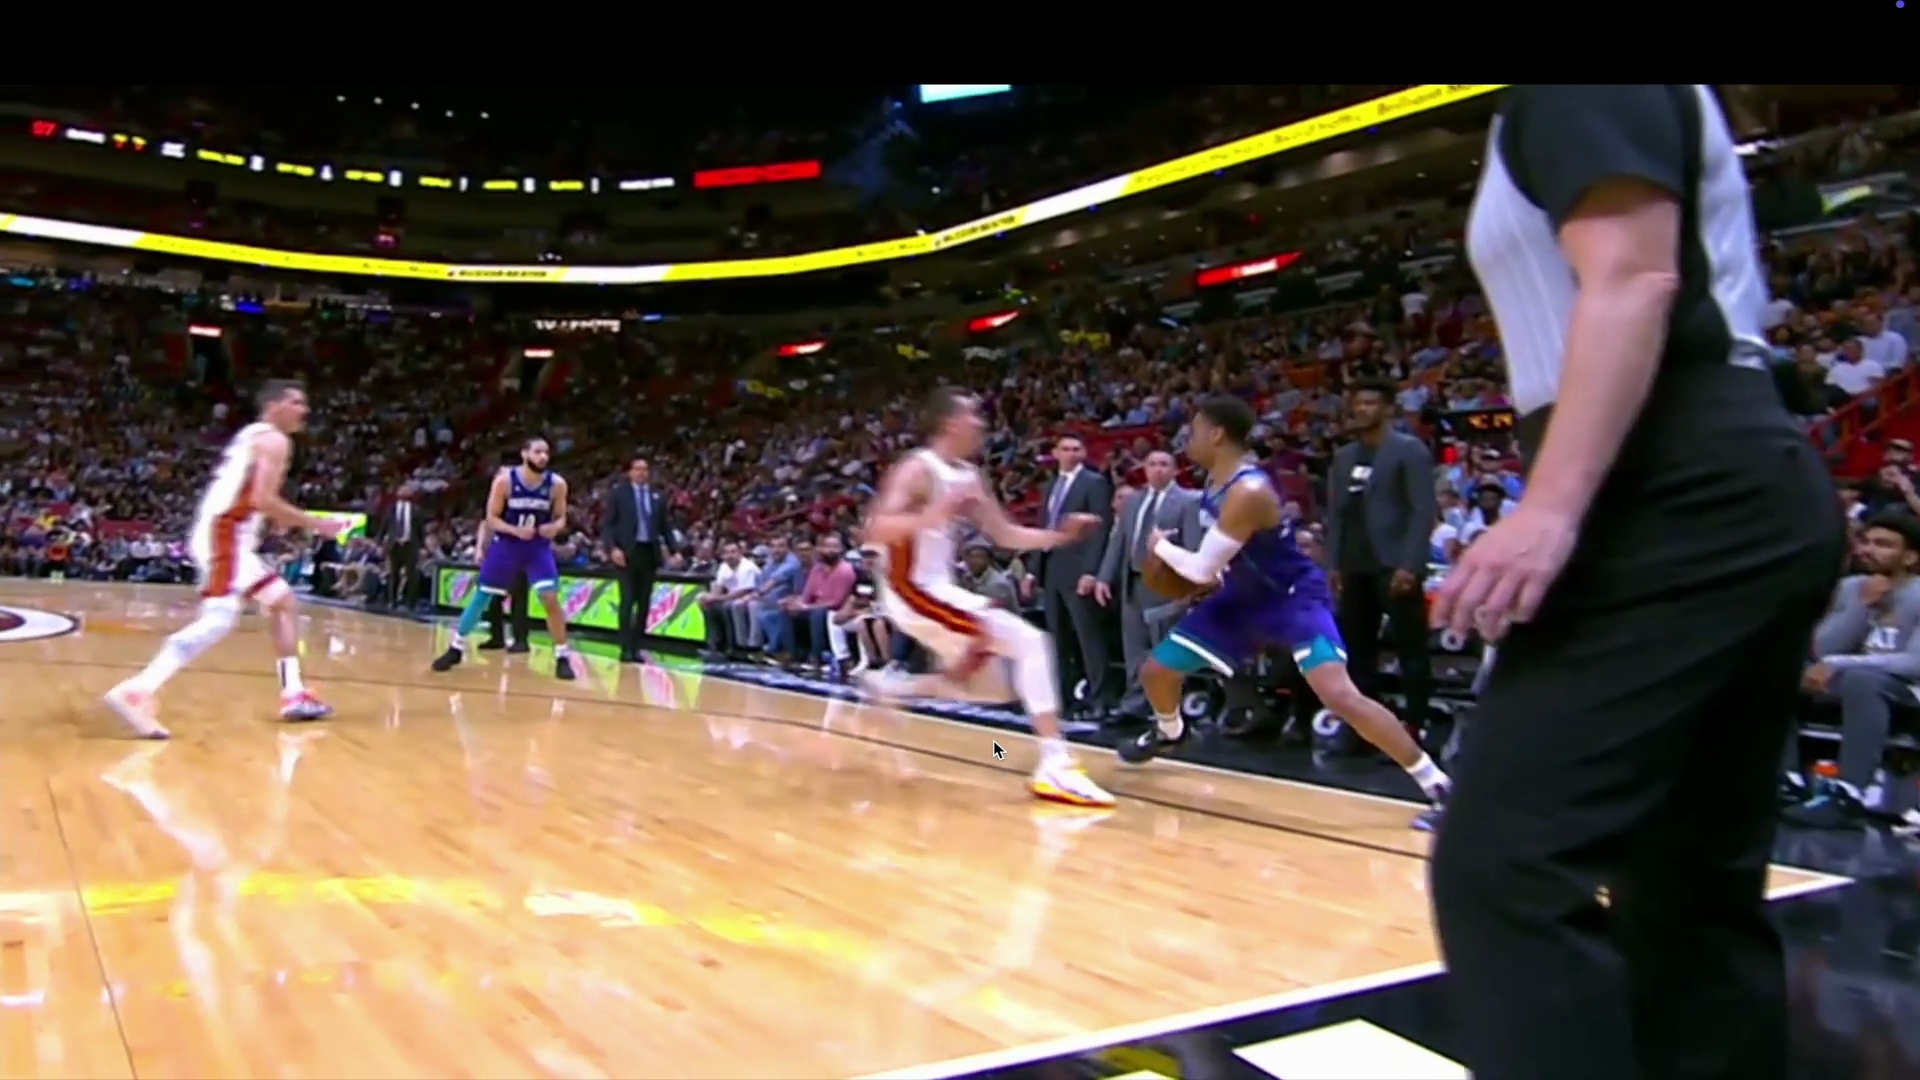Player: (869, 374, 1082, 810), (1156, 399, 1314, 782), (192, 372, 339, 740), (479, 424, 587, 704)
